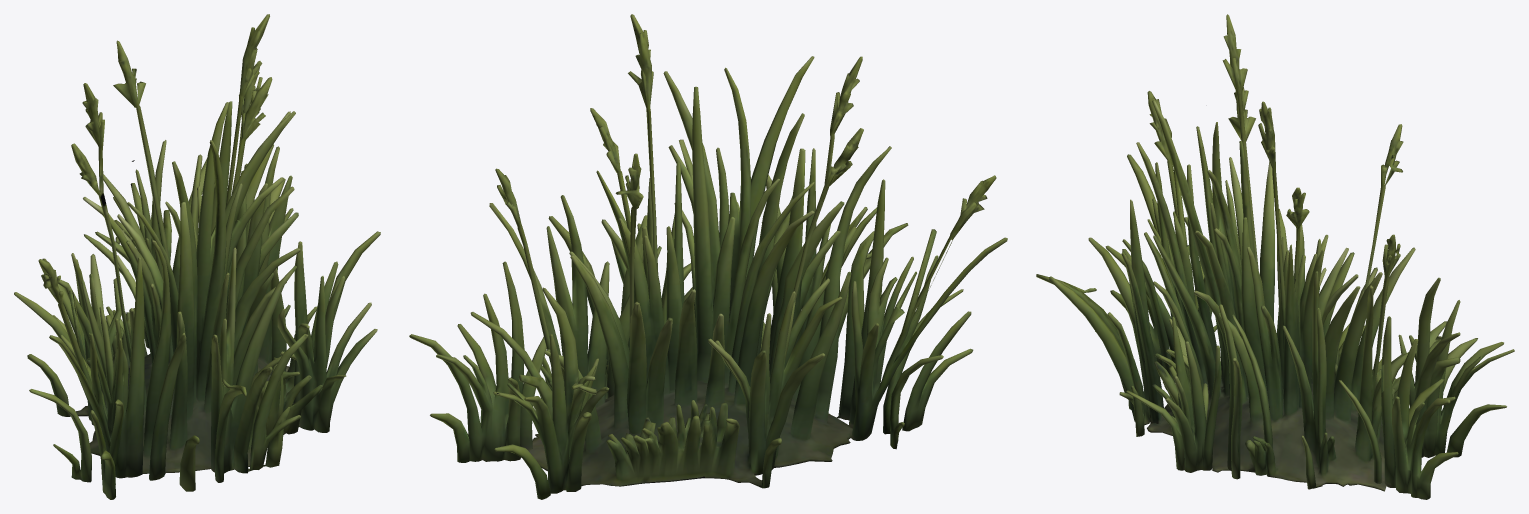
Rendered from grass clump 3d model.glb.
3 views of the same model, side by side, from view 1: azimuth 30°, elevation 25°; view 2: azimuth 150°, elevation 25°; view 3: azimuth 270°, elevation 25° (orthographic). The views are drawn at different scales.
Visible parts, largest first — view 1: tripo_node_f8a7212a-ea0a-4cd9-9fdf-f64a867a0522; view 2: tripo_node_f8a7212a-ea0a-4cd9-9fdf-f64a867a0522; view 3: tripo_node_f8a7212a-ea0a-4cd9-9fdf-f64a867a0522.
Part boxes in pixels (left/top/right/bottom): tripo_node_f8a7212a-ea0a-4cd9-9fdf-f64a867a0522: left=14, top=14, right=380, bottom=499; tripo_node_f8a7212a-ea0a-4cd9-9fdf-f64a867a0522: left=409, top=14, right=1007, bottom=499; tripo_node_f8a7212a-ea0a-4cd9-9fdf-f64a867a0522: left=1036, top=14, right=1514, bottom=499.
Size of the model in its own units: 0.8943 by 0.8177 by 0.9786.
1 material, 1 textured.
